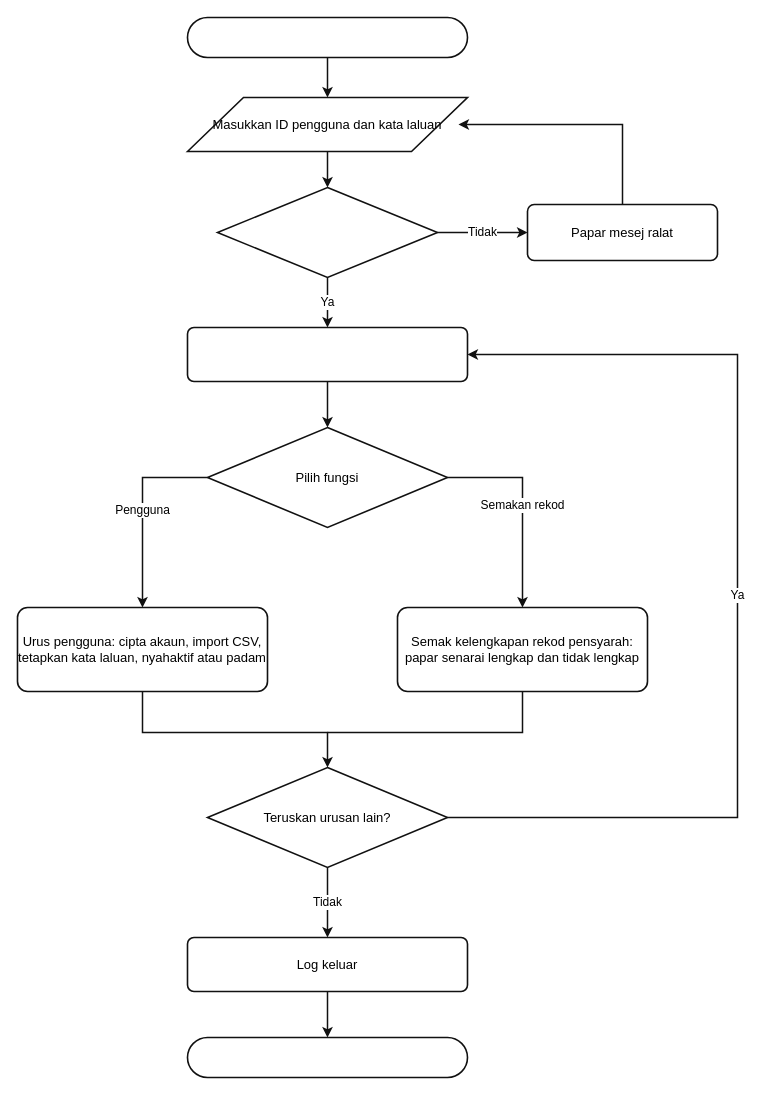
Image size: 764x1096. Some labels were removed from this diagram. Here are the shapes that lost their labels. From the top down, the box of each, then its label:
(186, 16, 468, 58): Mula
(216, 186, 438, 278): Maklumat sah?
(186, 326, 468, 382): Papar halaman utama Admin
(186, 1036, 468, 1078): Tamat
